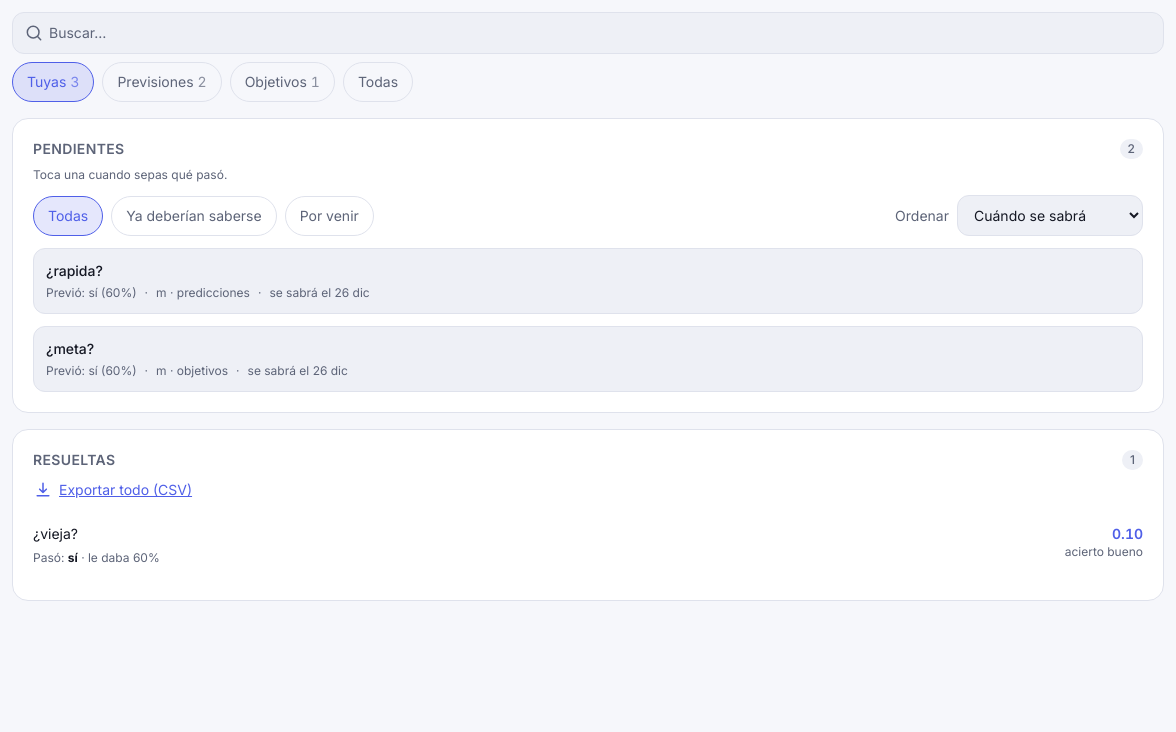
Test: Predicciones: filtrar y quitar filtros › filtra por tipo, cuenta «x de y» y «Quitar filtros» lo devuelve todo
Click the radio button labelled "Objetivos1" at (282, 82), box [230,62,335,102]
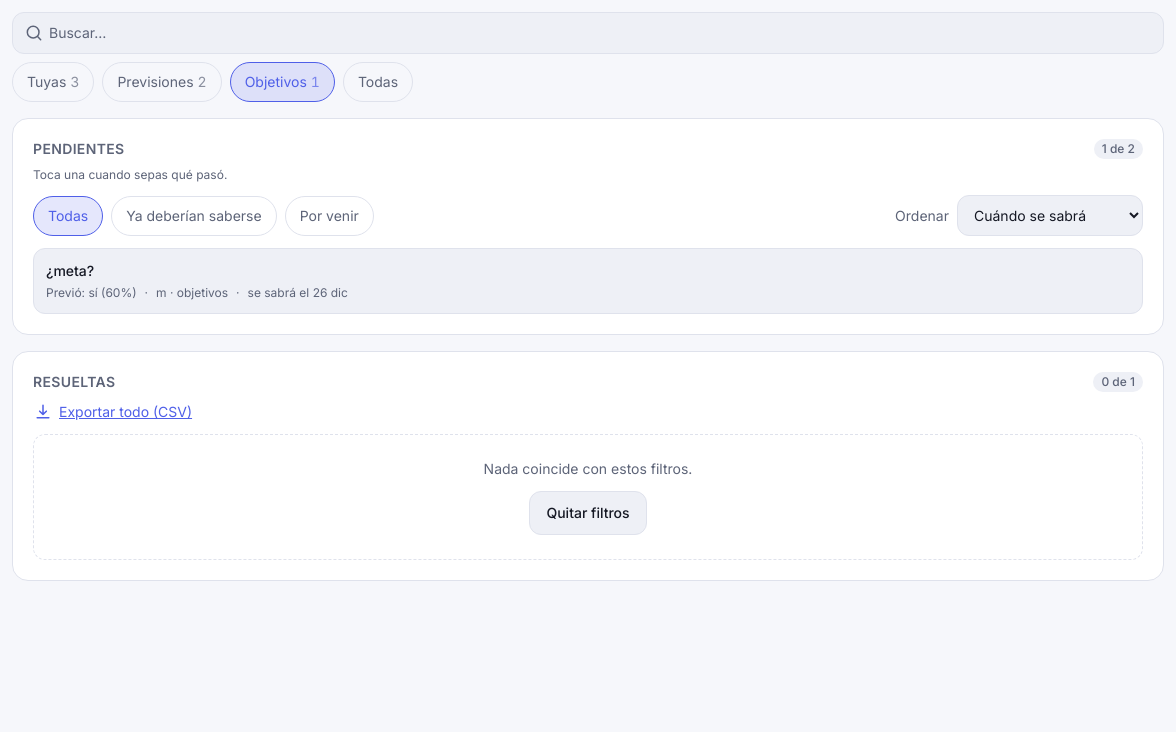
Expected: the text "¿meta?" is shown, [46,262,94,279]
Expected: the button "¿rapida?" is gone
Expected: the text "1 de 2" is shown, [1094,139,1143,159]
// Ninguna resuelta es de objetivos: se ofrece quitar los filtros.
Click the button "Quitar filtros" at (588, 513), box [529,491,647,535]
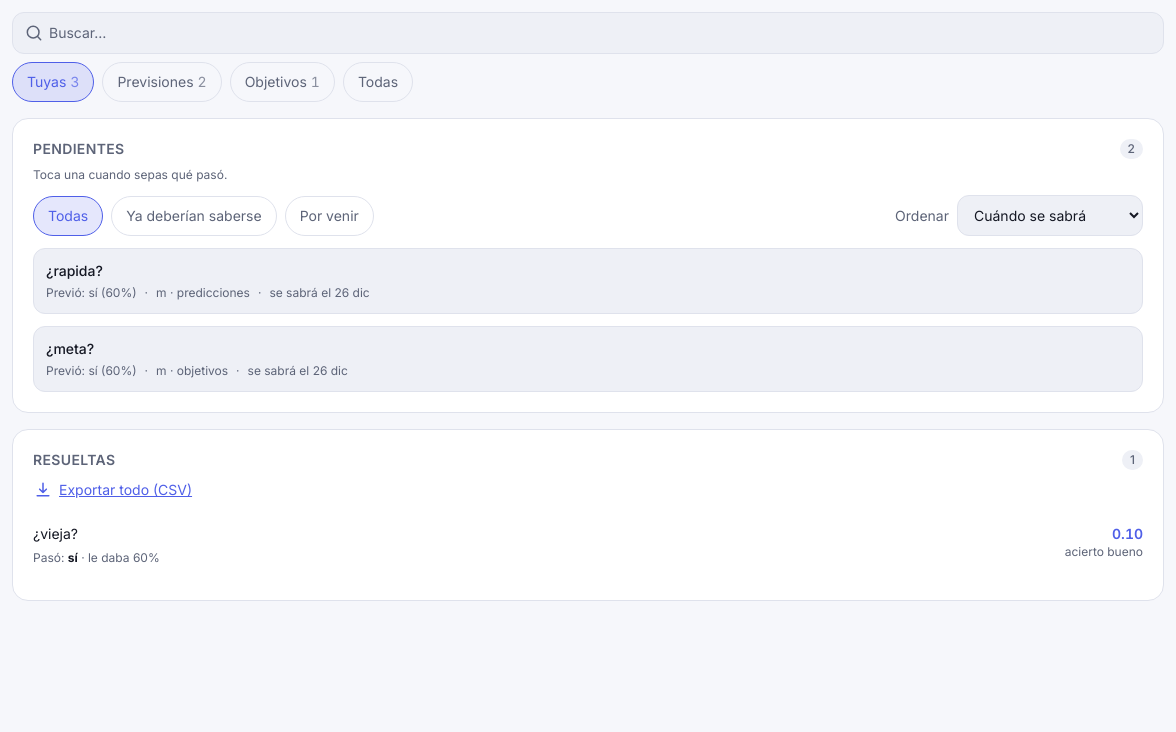
Expected: the text "¿rapida?" is shown, [46,262,103,279]
